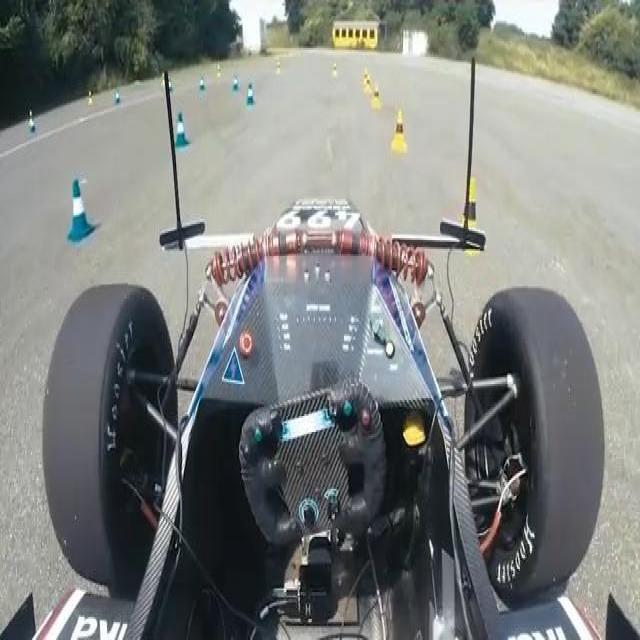blue_cone: (66, 178, 96, 245), (173, 110, 189, 151), (246, 82, 255, 107)
yellow_cone: (456, 173, 481, 252), (389, 109, 408, 154), (371, 84, 381, 110)
